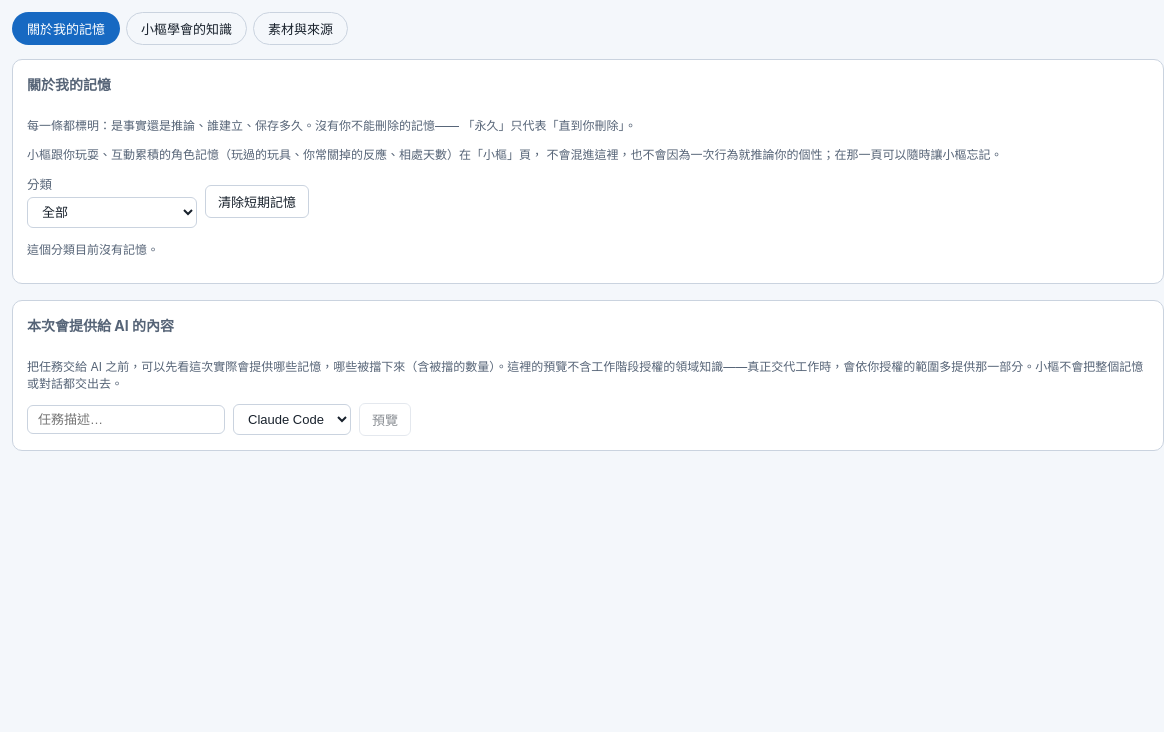
Test: memory-ui-002：Context Bundle 被份量上限截斷時不得說「擋下來的：沒有」 › 一般模式預覽：後端回 overCapacity 時畫面明說這份不完整
Check: the heading "本次會提供給 AI 的內容" is shown, box [27,315,174,335]
Type "整理報告" into the field with placeholder "任務描述…" at [126, 420], box [27,405,225,434]
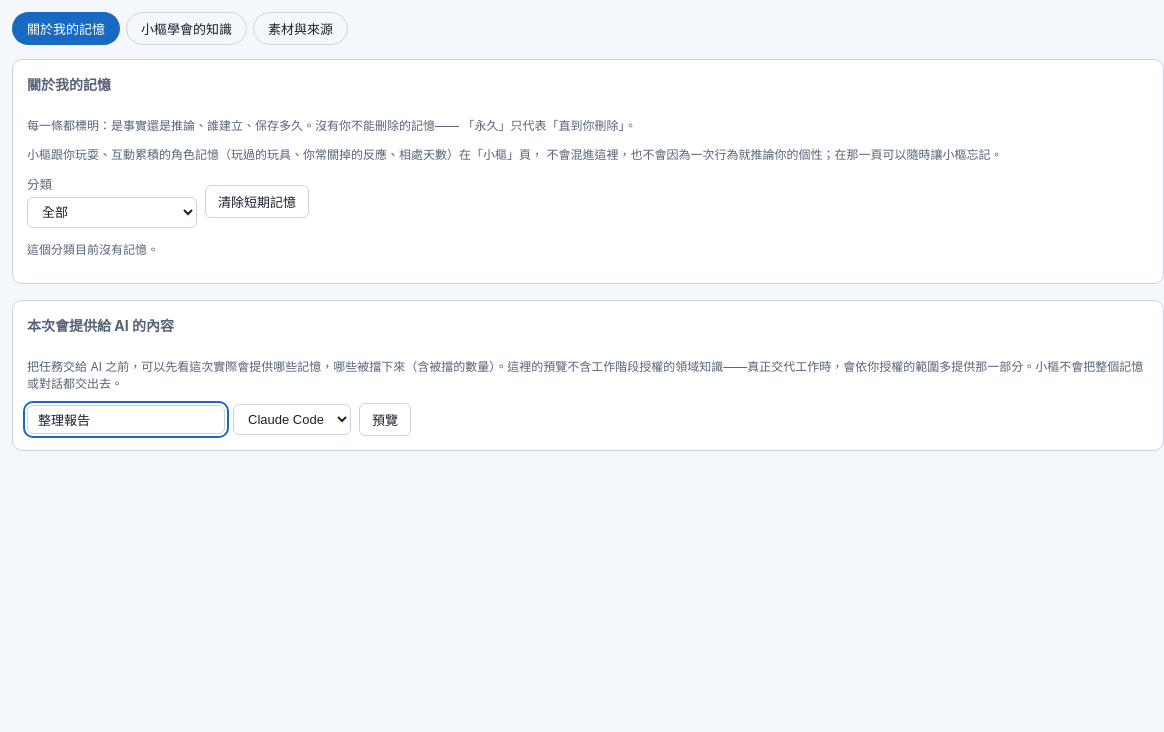
Click the button "預覽" at [385, 420], box [359,403,411,436]
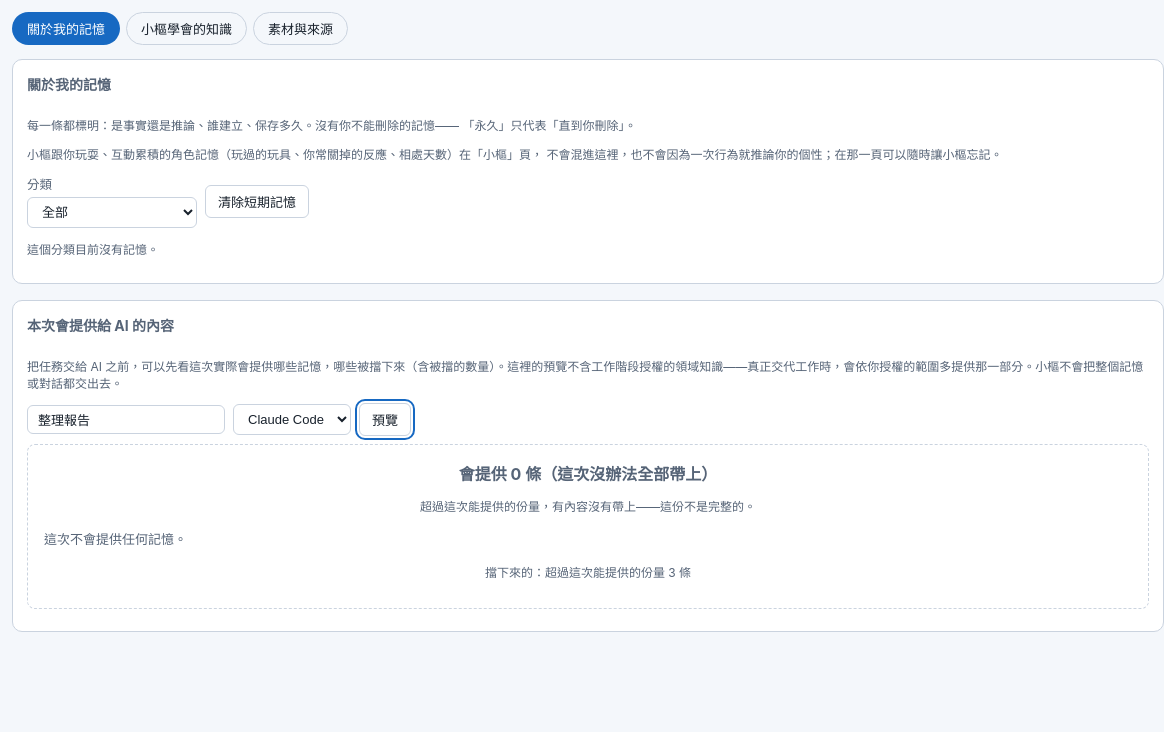
Check: the text "擋下來的：超過這次能提供的份量 3 條" is shown, box [485,565,691,580]
Check: the text "這份不是完整的" is shown, box [420,499,756,514]
